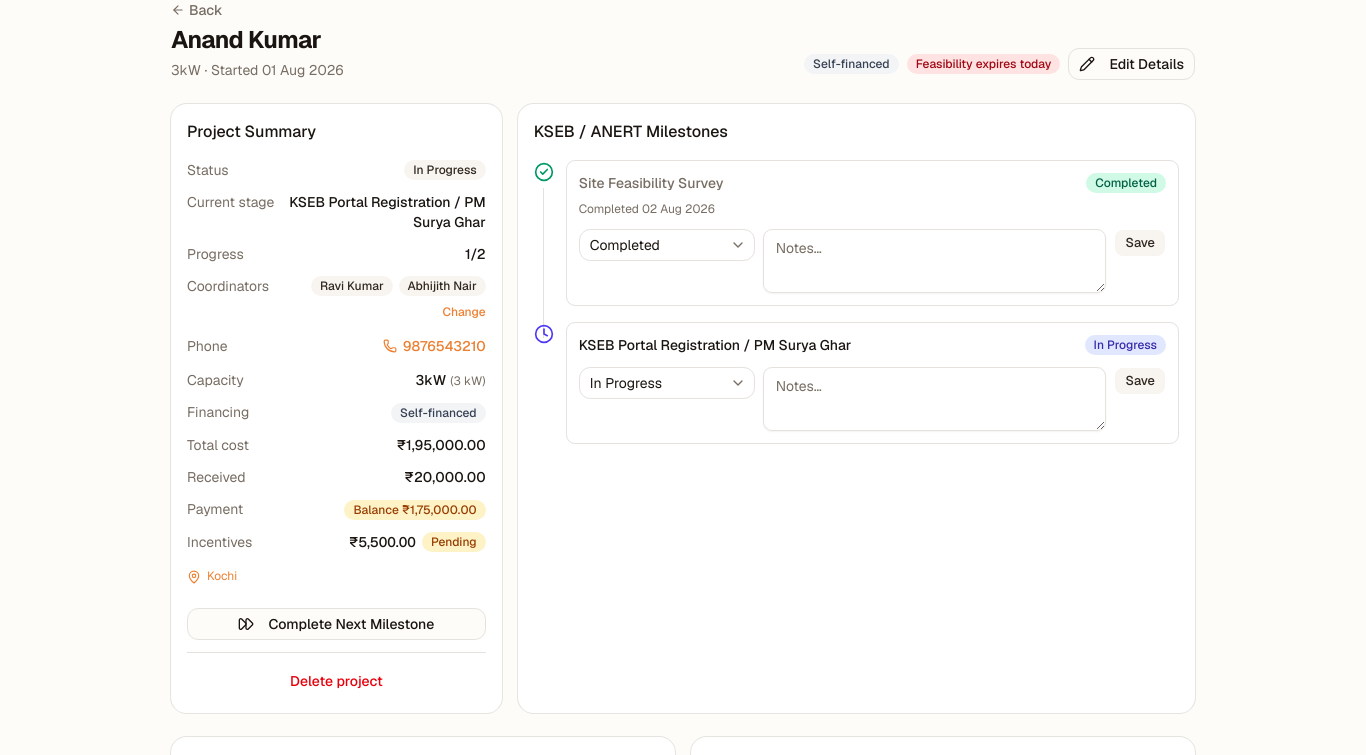
Test case: the SuperAdmin › may delete the project, and is told what happens to the incentives
The image size is (1366, 755).
Step 1. Click the button "Delete project" → (336, 681), box left=187, top=665, right=486, bottom=697
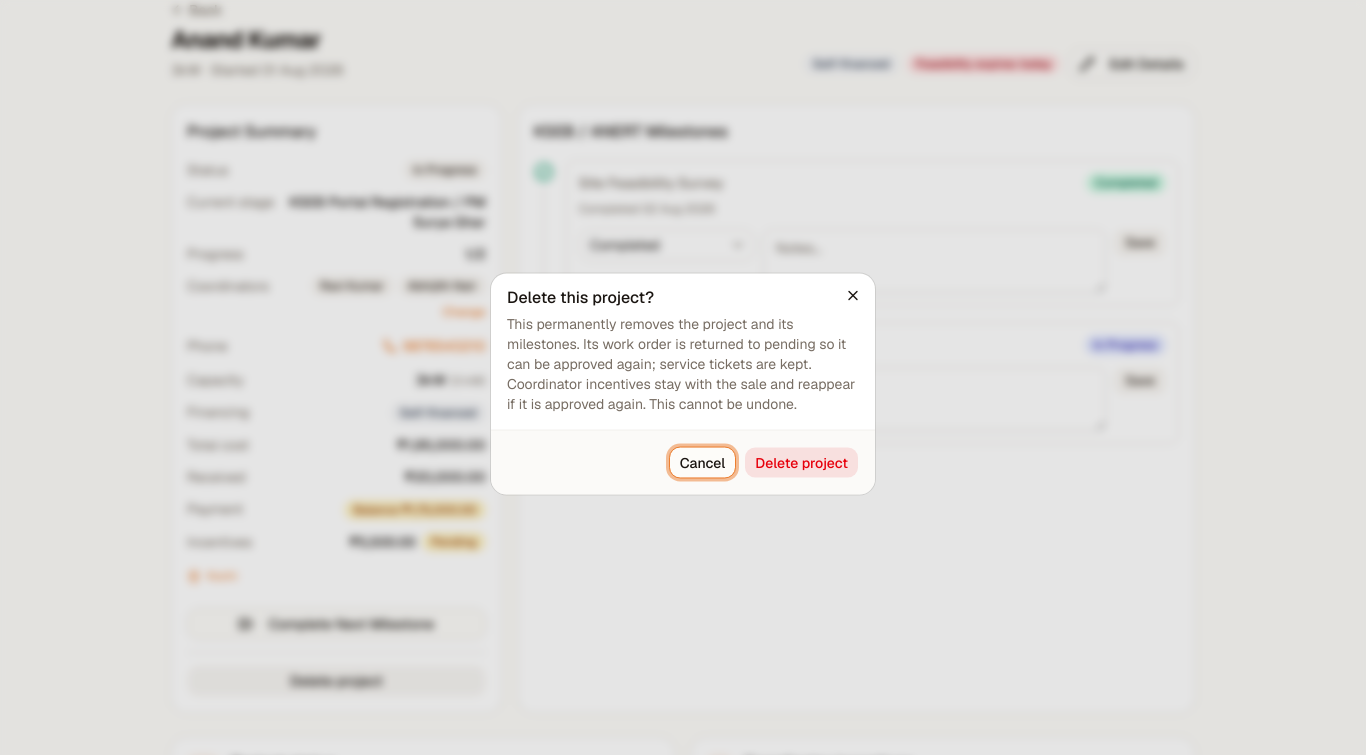
Check: the dialog shows "Coordinator incentives stay with the sale and reappear if it is approved again.", box left=507, top=314, right=855, bottom=412
